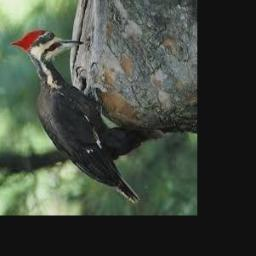Woodpecker: (11, 30, 141, 202)
